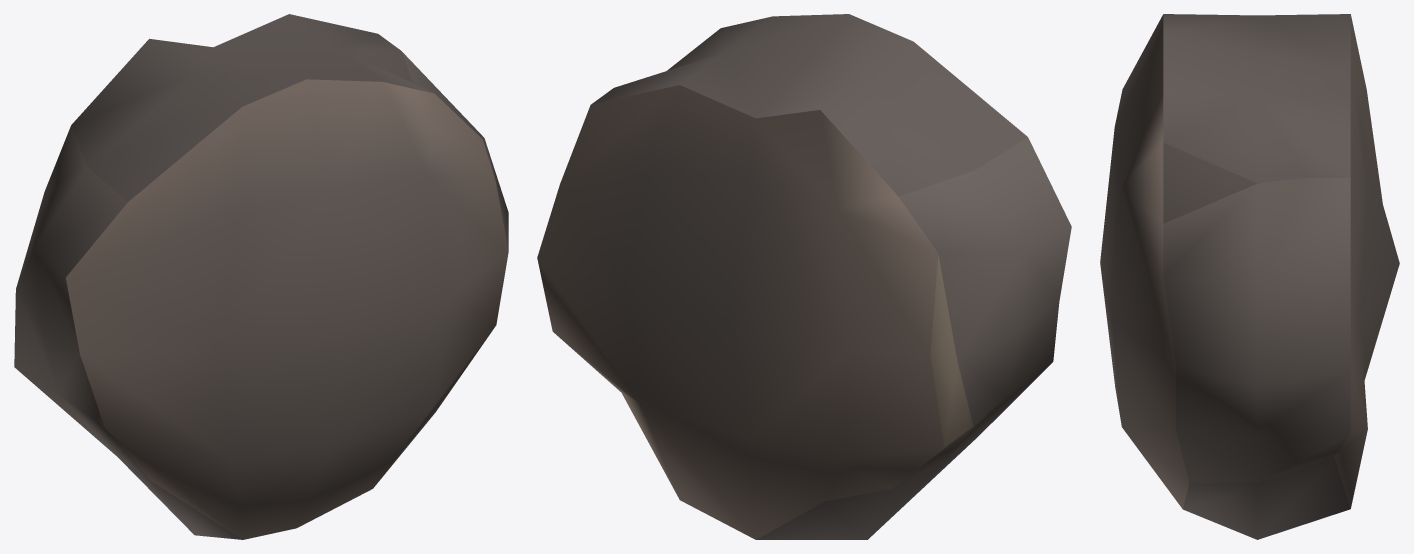
The model's file is RockSmall.008.glb.
3 renders of one model, left to right at view 1: azimuth 30°, elevation 25°; view 2: azimuth 150°, elevation 25°; view 3: azimuth 270°, elevation 25°, orthographic.
Parts seen in each view (by area): view 1: RockSmall.008; view 2: RockSmall.008; view 3: RockSmall.008.
Part boxes in pixels (left/top/right/bottom): RockSmall.008: left=14, top=14, right=508, bottom=539; RockSmall.008: left=537, top=14, right=1071, bottom=539; RockSmall.008: left=1100, top=14, right=1399, bottom=539.
Size of the model in its own units: 131 by 127 by 70.29.
